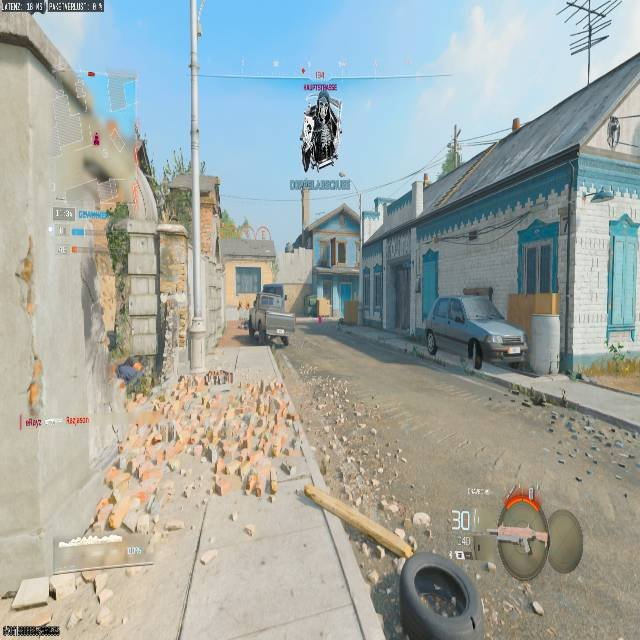player: (302, 91, 340, 169), (336, 315, 345, 333)
